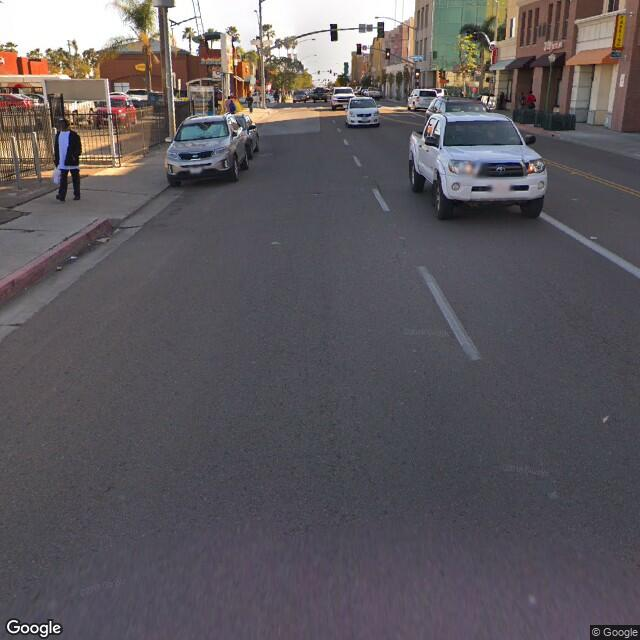road line: (374, 189, 463, 336)
